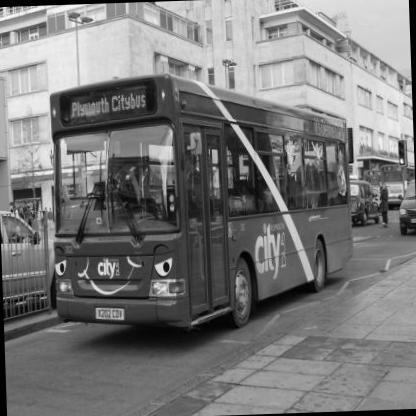bus: (29, 58, 376, 341)
